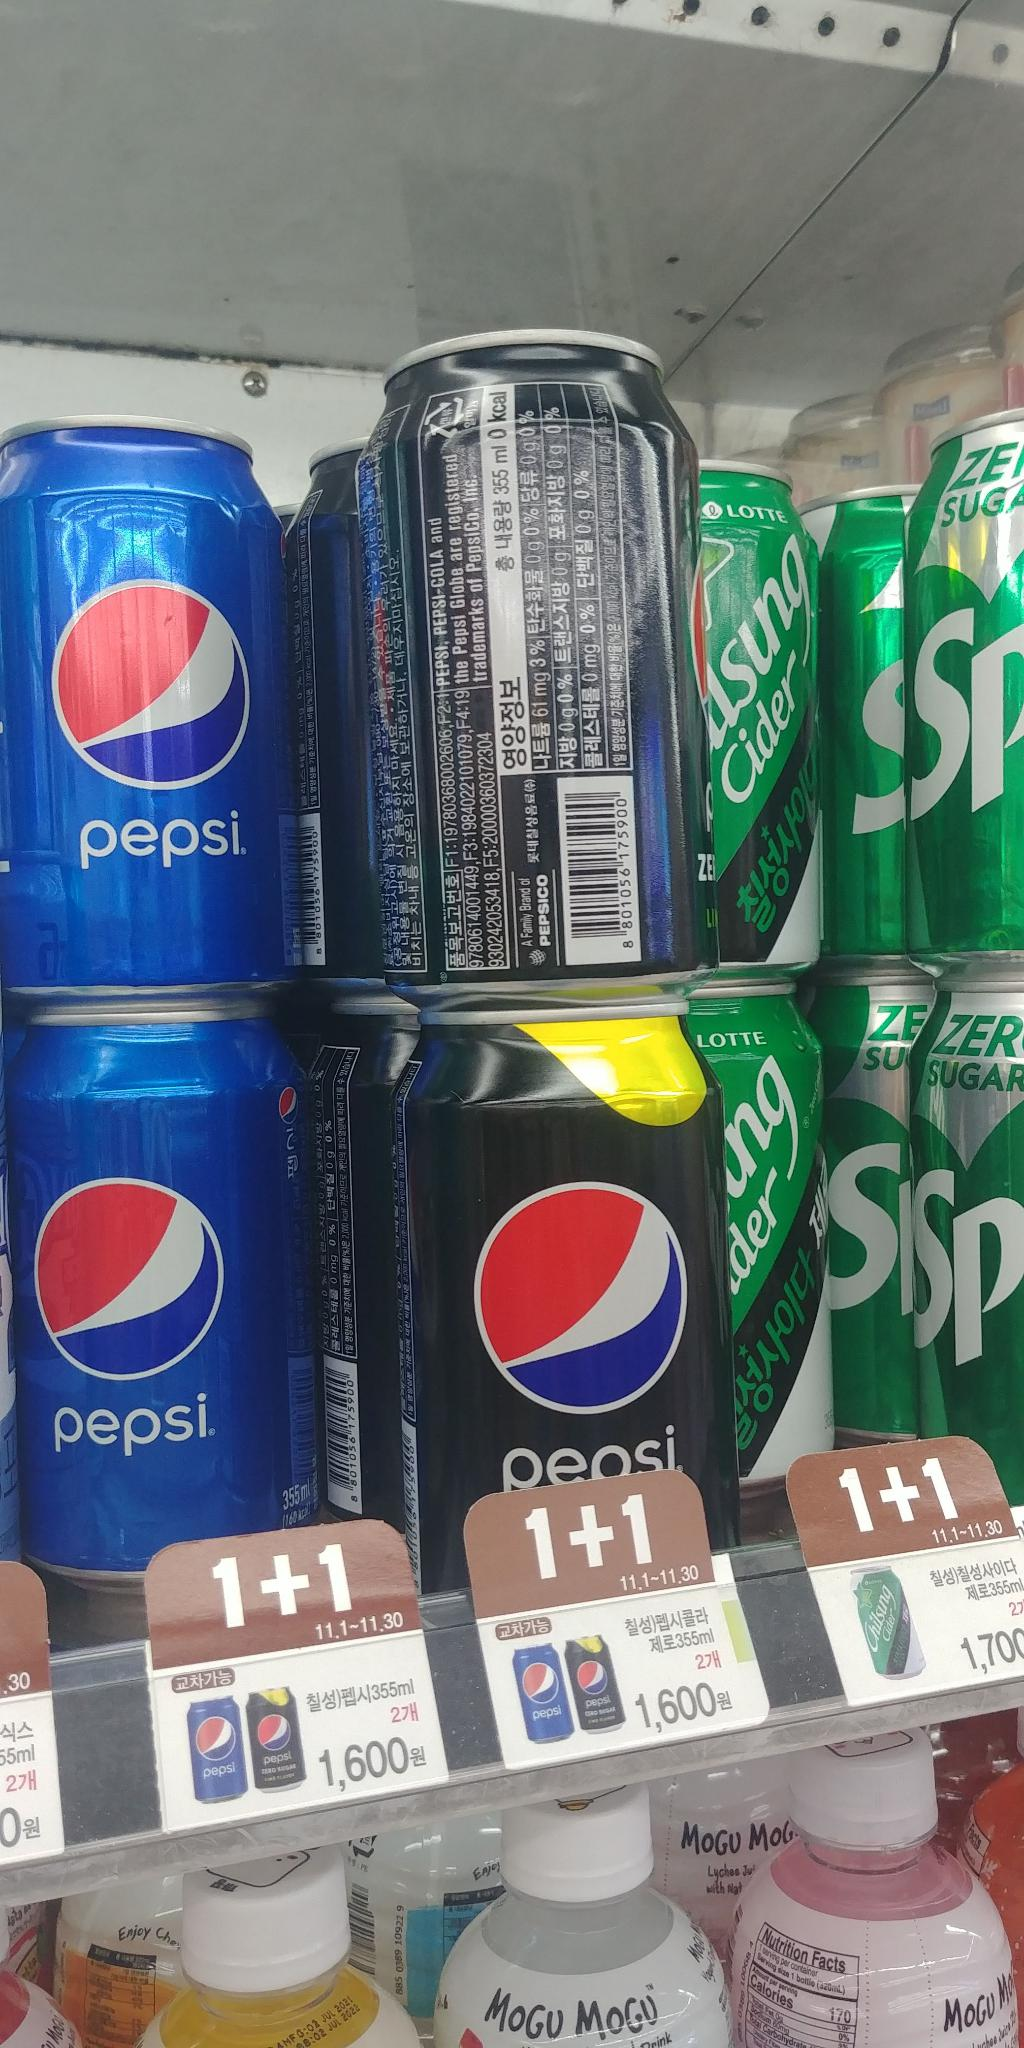pepsi_zero: (358, 337, 711, 989), (367, 999, 751, 1595)
